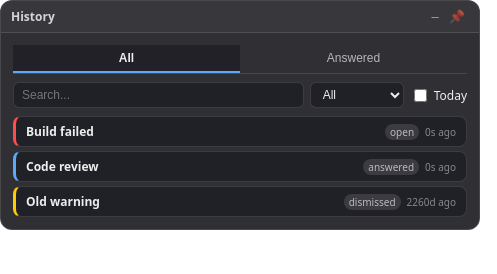
HistoryWidget › expands item on click to show message
Expected: the text "Build failed" is shown, [26, 123, 94, 140]
Click the text "Build failed" at (60, 132), box [26, 123, 456, 140]
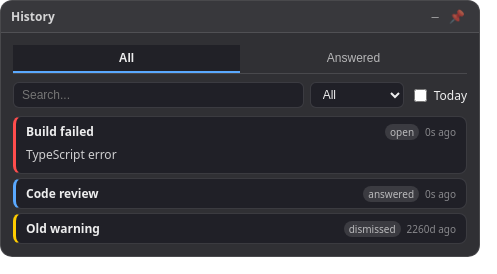
Expected: the text "TypeScript error" is shown, [26, 146, 117, 163]
